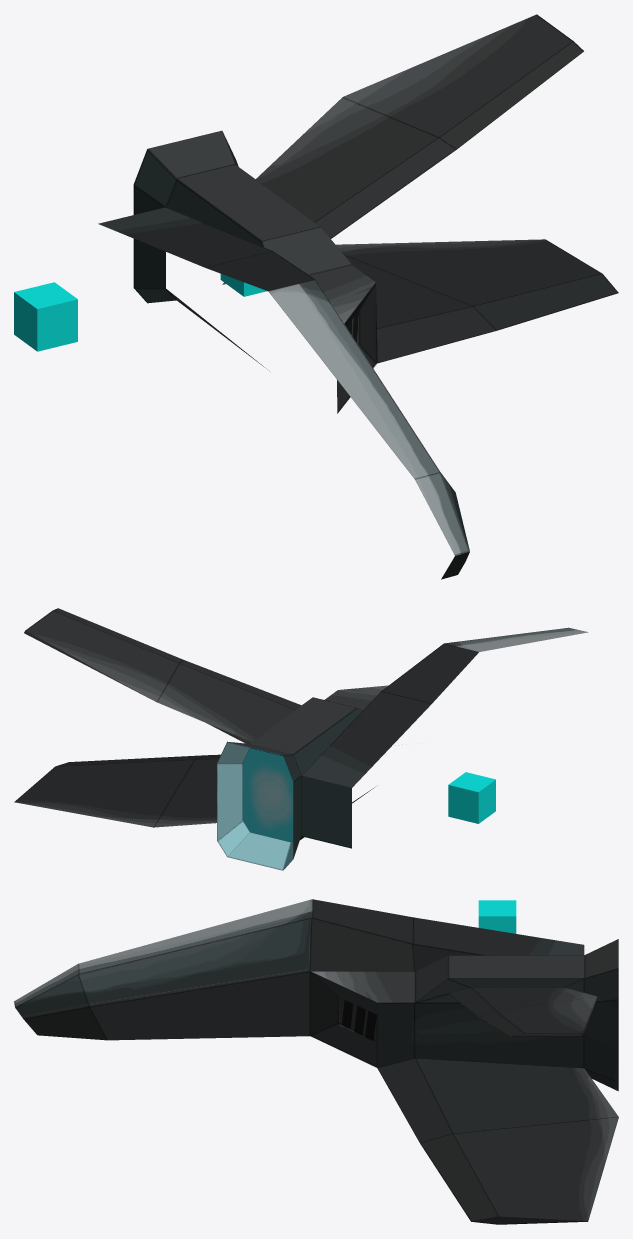
The model's file is DevShip12.glb.
3 renders of one model, top to bottom at view 1: azimuth 30°, elevation 25°; view 2: azimuth 150°, elevation 25°; view 3: azimuth 270°, elevation 25°, orthographic. The views are drawn at different scales.
Visible parts, largest first — view 1: Cube, Cube.002; view 2: Cube, Cube.002; view 3: Cube, Cube.002.
Part boxes in pixels (bbox=[...]): Cube: bbox=[98, 14, 618, 579]; Cube.002: bbox=[14, 282, 77, 351]; Cube: bbox=[14, 608, 587, 870]; Cube.002: bbox=[448, 772, 495, 823]; Cube: bbox=[14, 899, 618, 1224]; Cube.002: bbox=[478, 900, 516, 933].
Size of the model in its own units: 3.89 by 1.51 by 4.42.
3 materials, 1 textured.
